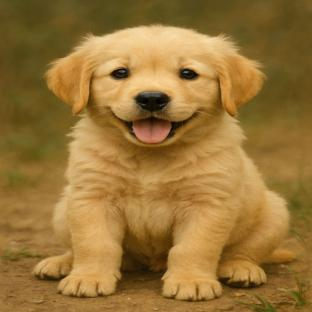Animal: (33, 25, 294, 301)
